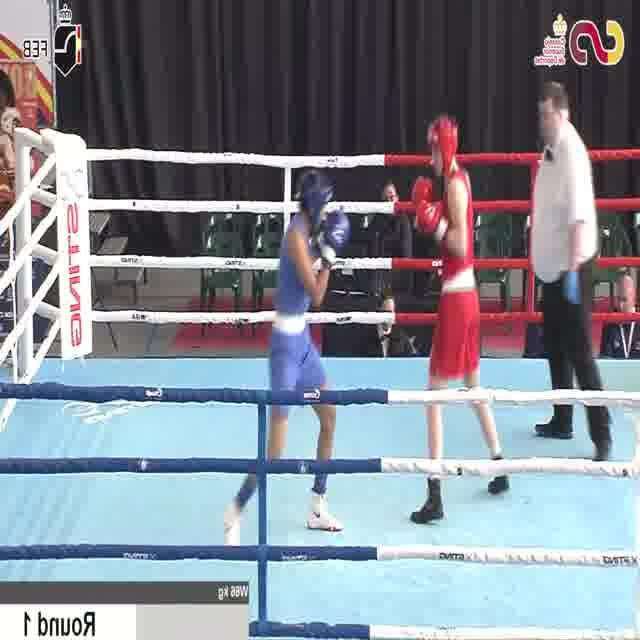blue-player: (219, 166, 352, 557)
red-player: (408, 111, 513, 527)
referee: (532, 79, 616, 463)
